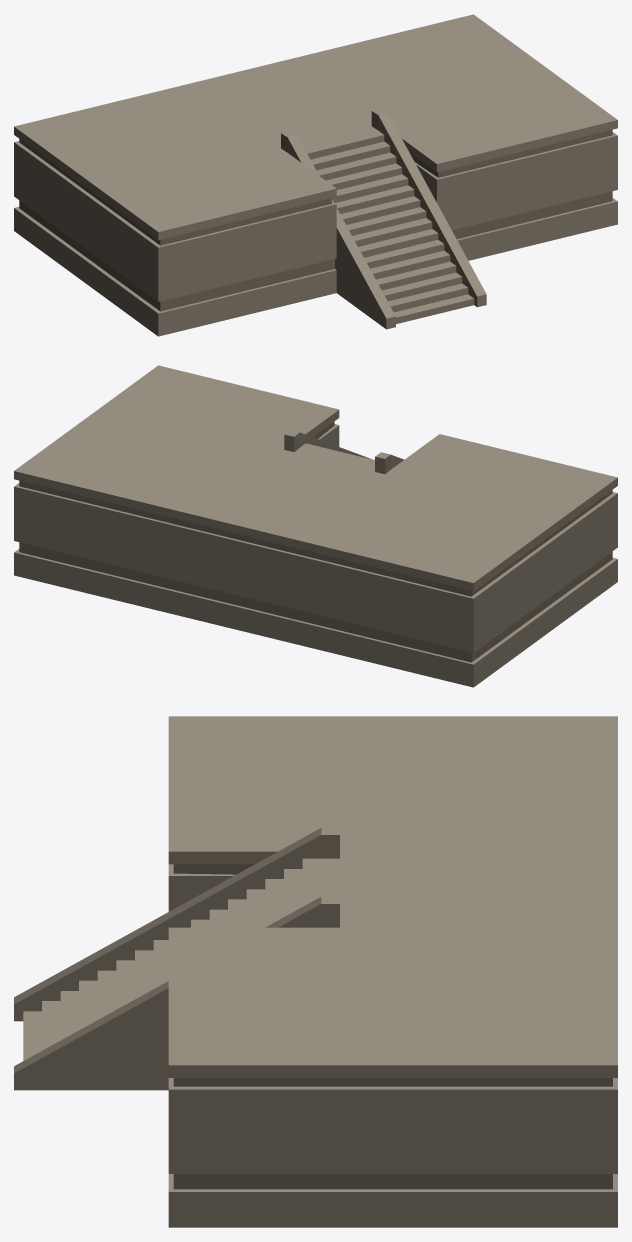
File: SF_Bld_Elven_Platform_01.fbx
3 views of the same model, one above another, from view 1: azimuth 30°, elevation 25°; view 2: azimuth 150°, elevation 25°; view 3: azimuth 270°, elevation 25° (orthographic). The views are drawn at different scales.
Visible parts, largest first — view 1: SF_Bld_Elven_Platform_01; view 2: SF_Bld_Elven_Platform_01; view 3: SF_Bld_Elven_Platform_01.
Boxes of the visible parts, x1=… form: SF_Bld_Elven_Platform_01: x1=14, y1=14, x2=617, y2=336; SF_Bld_Elven_Platform_01: x1=14, y1=365, x2=617, y2=687; SF_Bld_Elven_Platform_01: x1=14, y1=716, x2=617, y2=1227.
Bounding box in the file's own units: 44.63 × 11.12 × 32.64.
